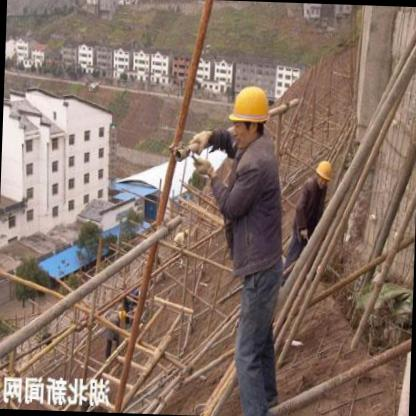helmet: (226, 80, 274, 154), (311, 156, 333, 193)
